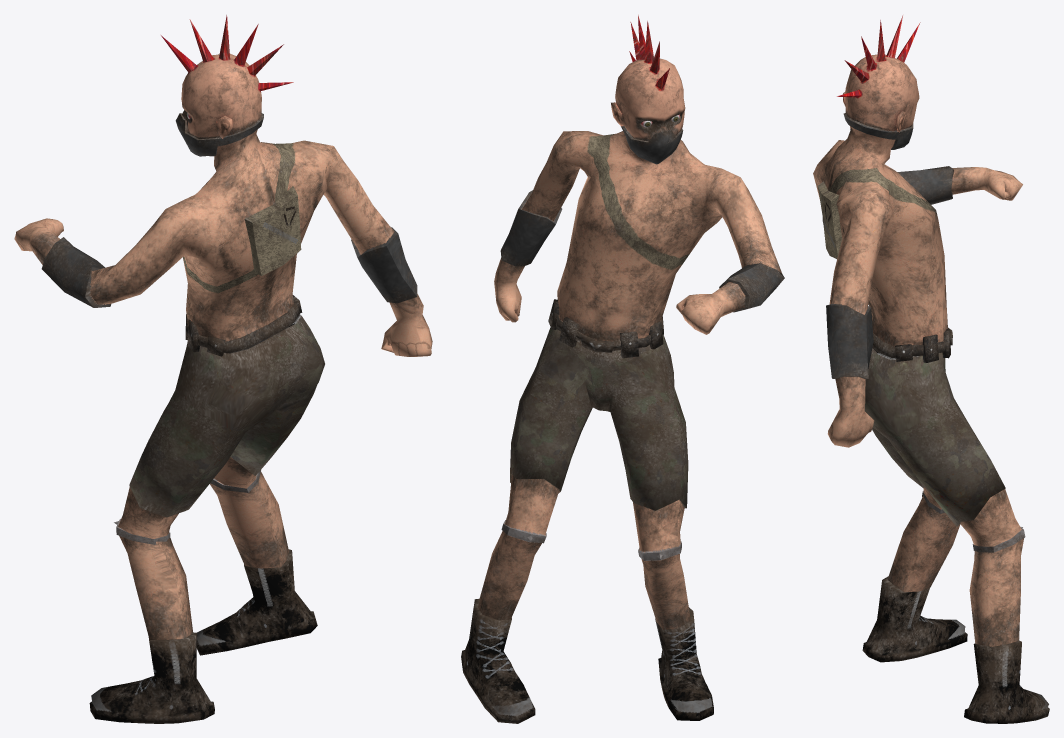
File: Anim_ataque_f3_npc2.0038.obj
3 views of the same model, side by side, from view 1: azimuth 30°, elevation 25°; view 2: azimuth 150°, elevation 25°; view 3: azimuth 270°, elevation 25° (orthographic). The views are drawn at different scales.
Visible parts, largest first — view 1: polySurface1; view 2: polySurface1; view 3: polySurface1.
Boxes of the visible parts, x1,y1,x2,y2 form: polySurface1: [14, 15, 432, 723]; polySurface1: [461, 15, 784, 723]; polySurface1: [813, 15, 1049, 723].
Size of the model in its own units: 4.8 by 9.86 by 3.18.
